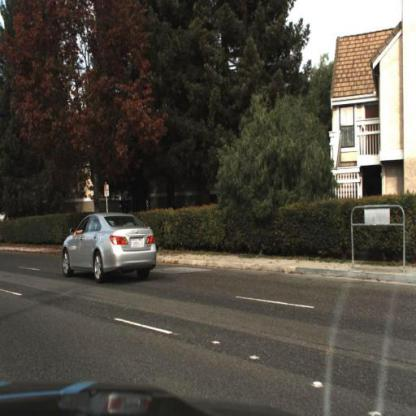car: (60, 208, 161, 292)
